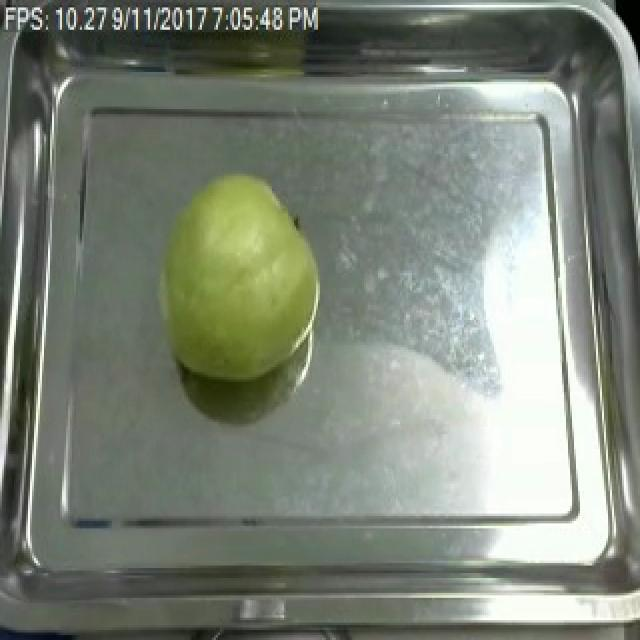Fruit: (146, 166, 330, 392)
